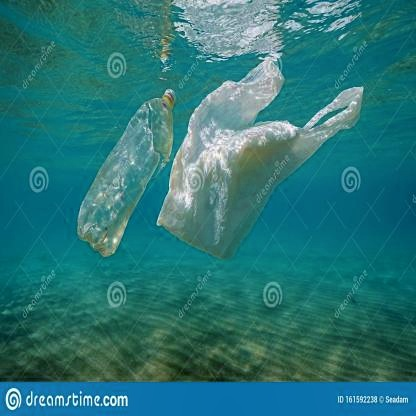pbag: (157, 52, 365, 262)
pbottle: (74, 84, 178, 262)
